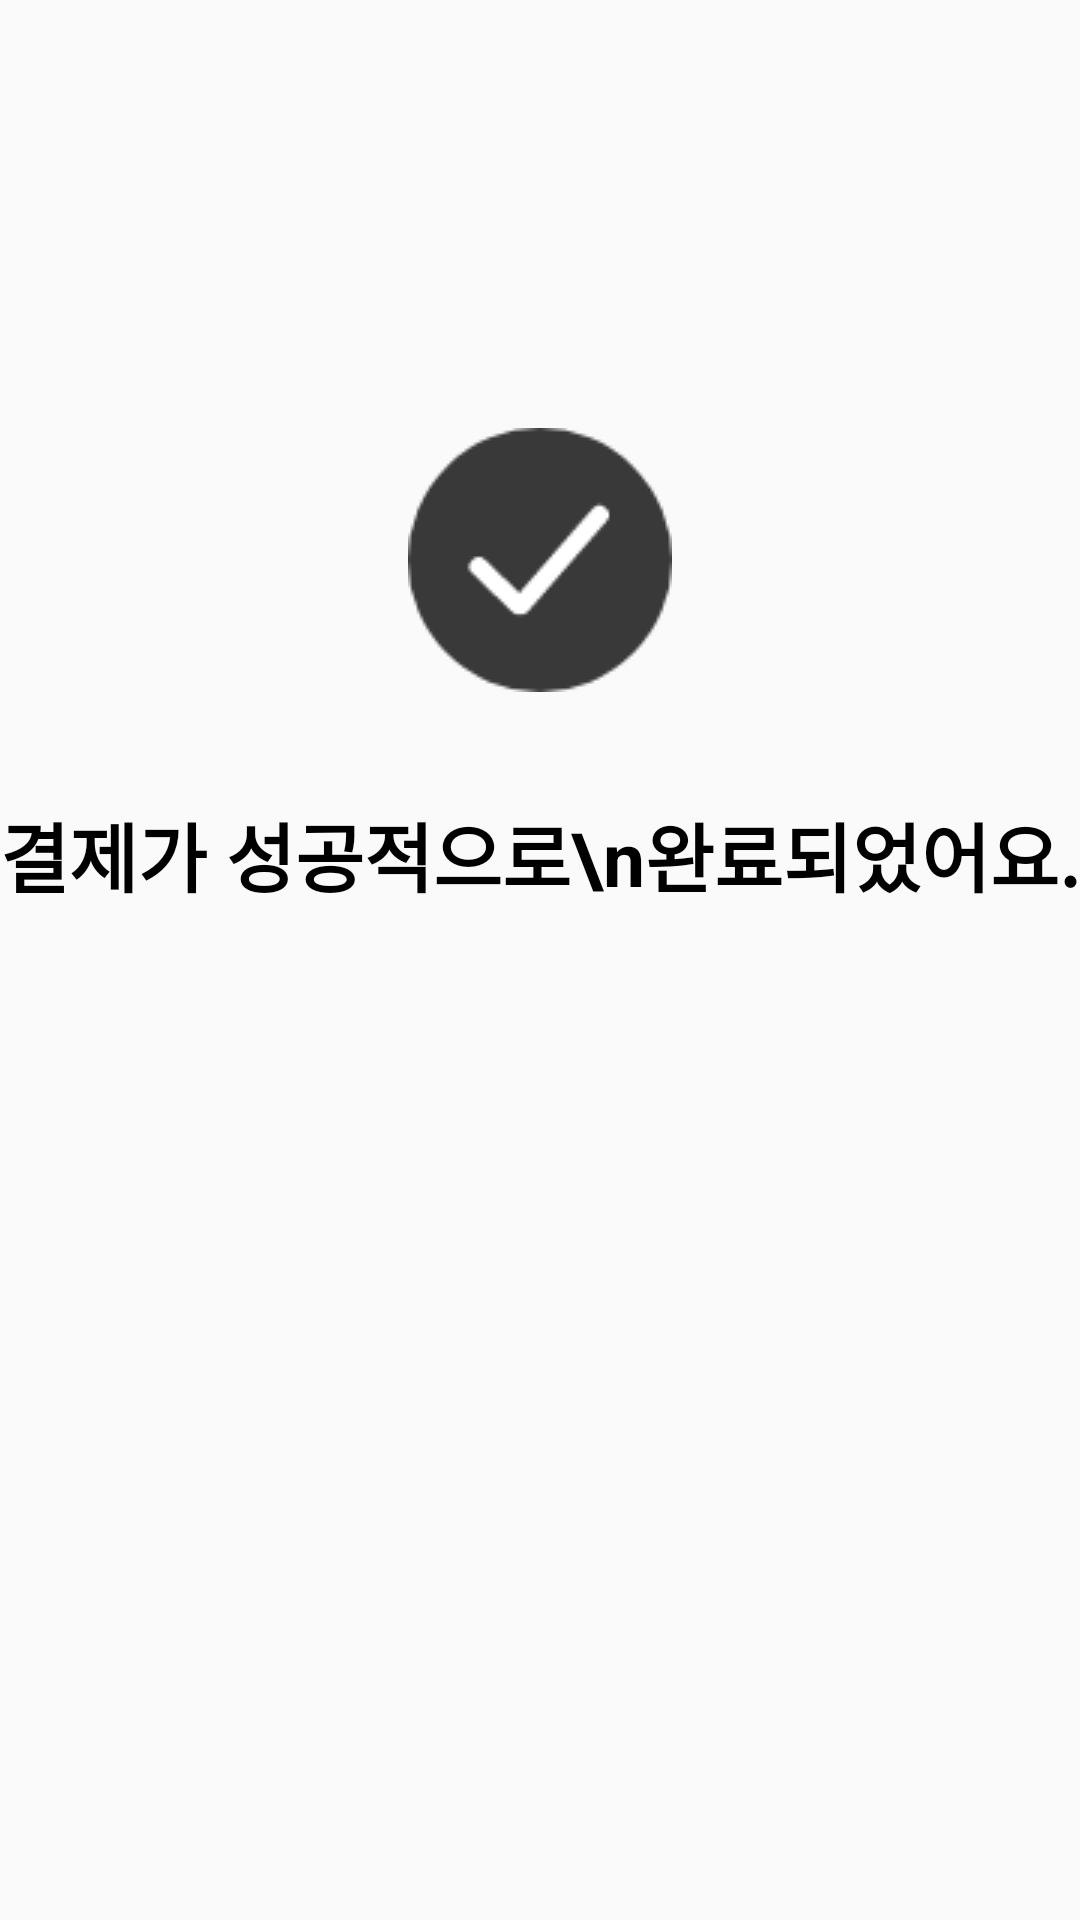

Screen size 1080px x 1920px. Icon name, then its box in pixels as (x1=x1, y1=y1, x2=x2, y2=y2):
member check: (x1=408, y1=428, x2=672, y2=692)
